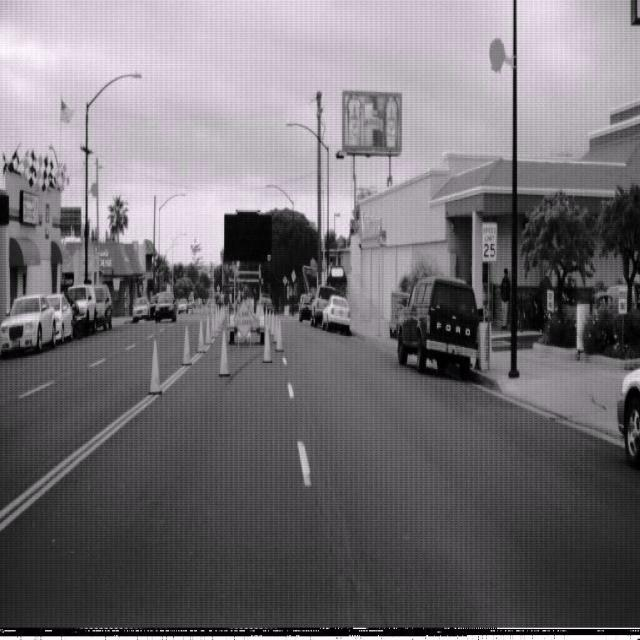speedLimit25: (480, 221, 498, 262)
